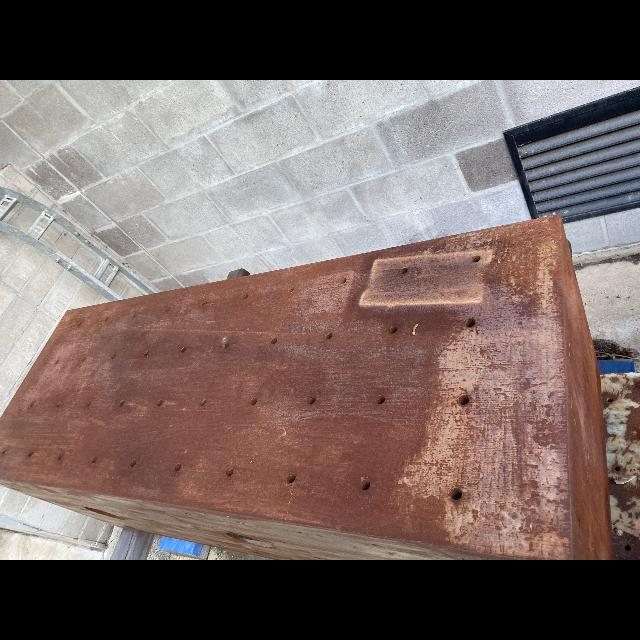Ferrous Metal: (0, 216, 612, 560), (601, 373, 640, 560)
Galvanized Steel: (0, 186, 159, 301)
